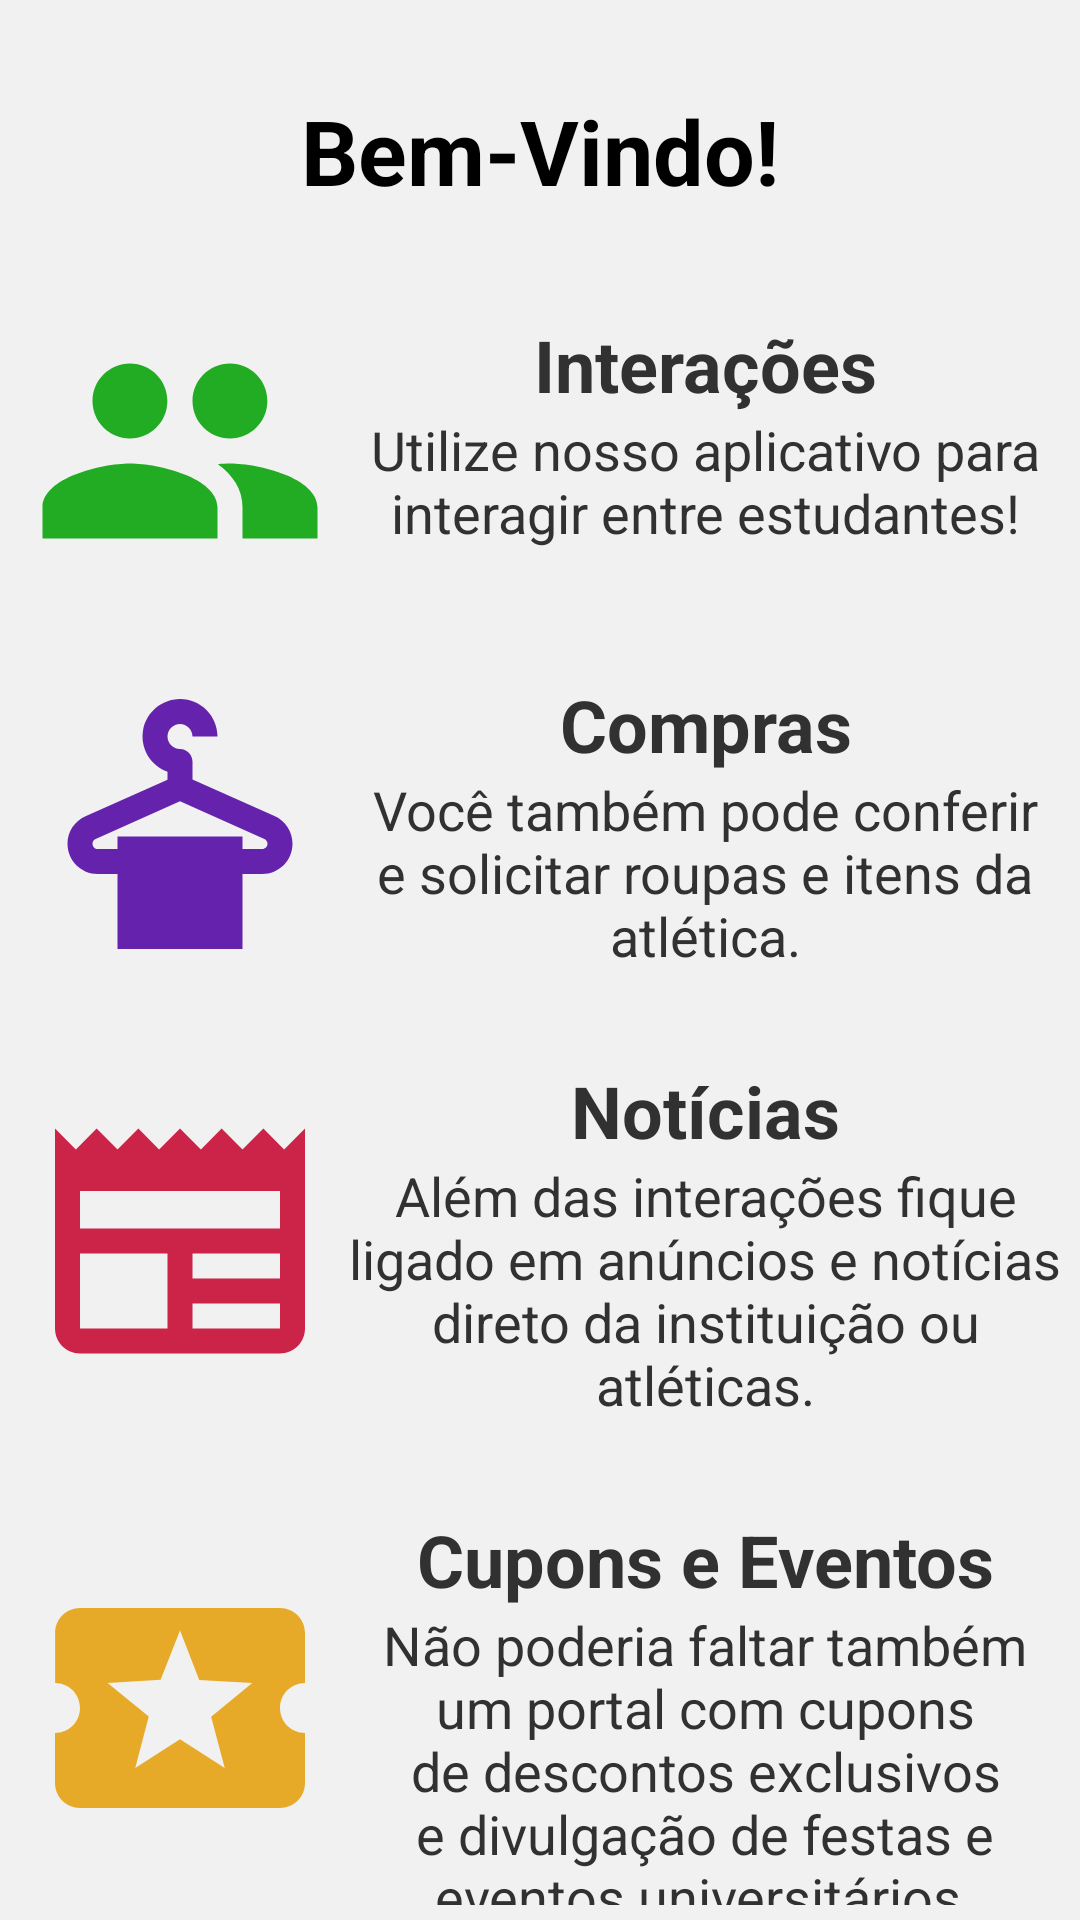

Icon click points for this 1080x1920 phone screenshot, format [x,y]:
dry cleaning: [180,824]
news: [180,1241]
peoples: [180,451]
ticket: [180,1708]
